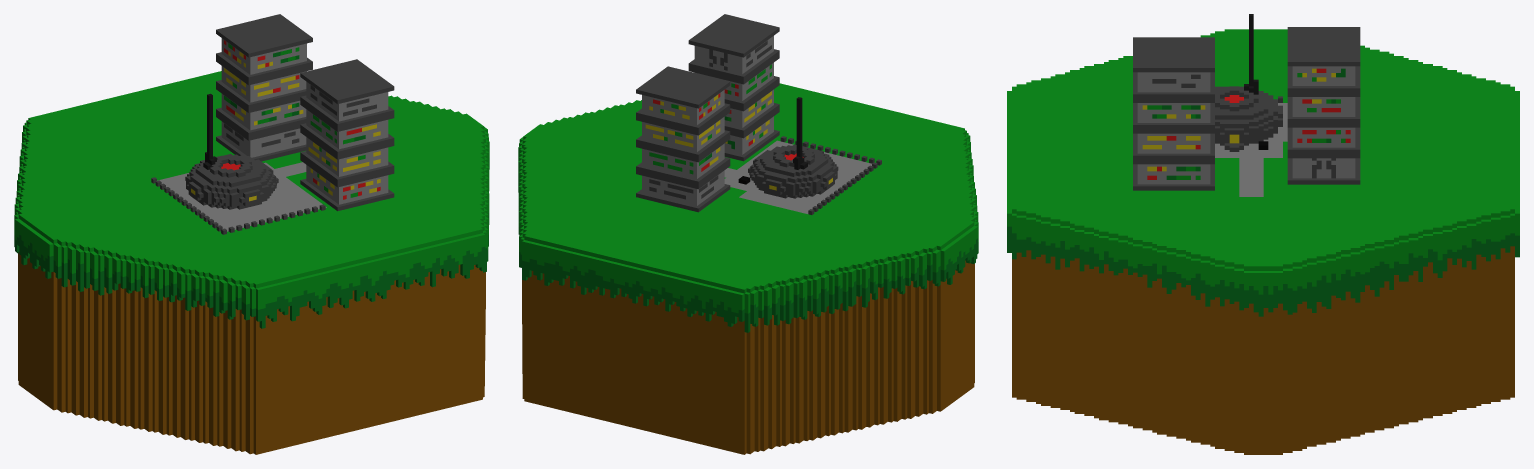
The model's file is main_hex_plain.obj.
3 views of the same model, side by side, from view 1: azimuth 30°, elevation 25°; view 2: azimuth 150°, elevation 25°; view 3: azimuth 270°, elevation 25° (orthographic). The views are drawn at different scales.
Bounding box in the file's own units: 11.8 × 7.1 × 10.6.
Materials: 1 (1 with a texture image).
